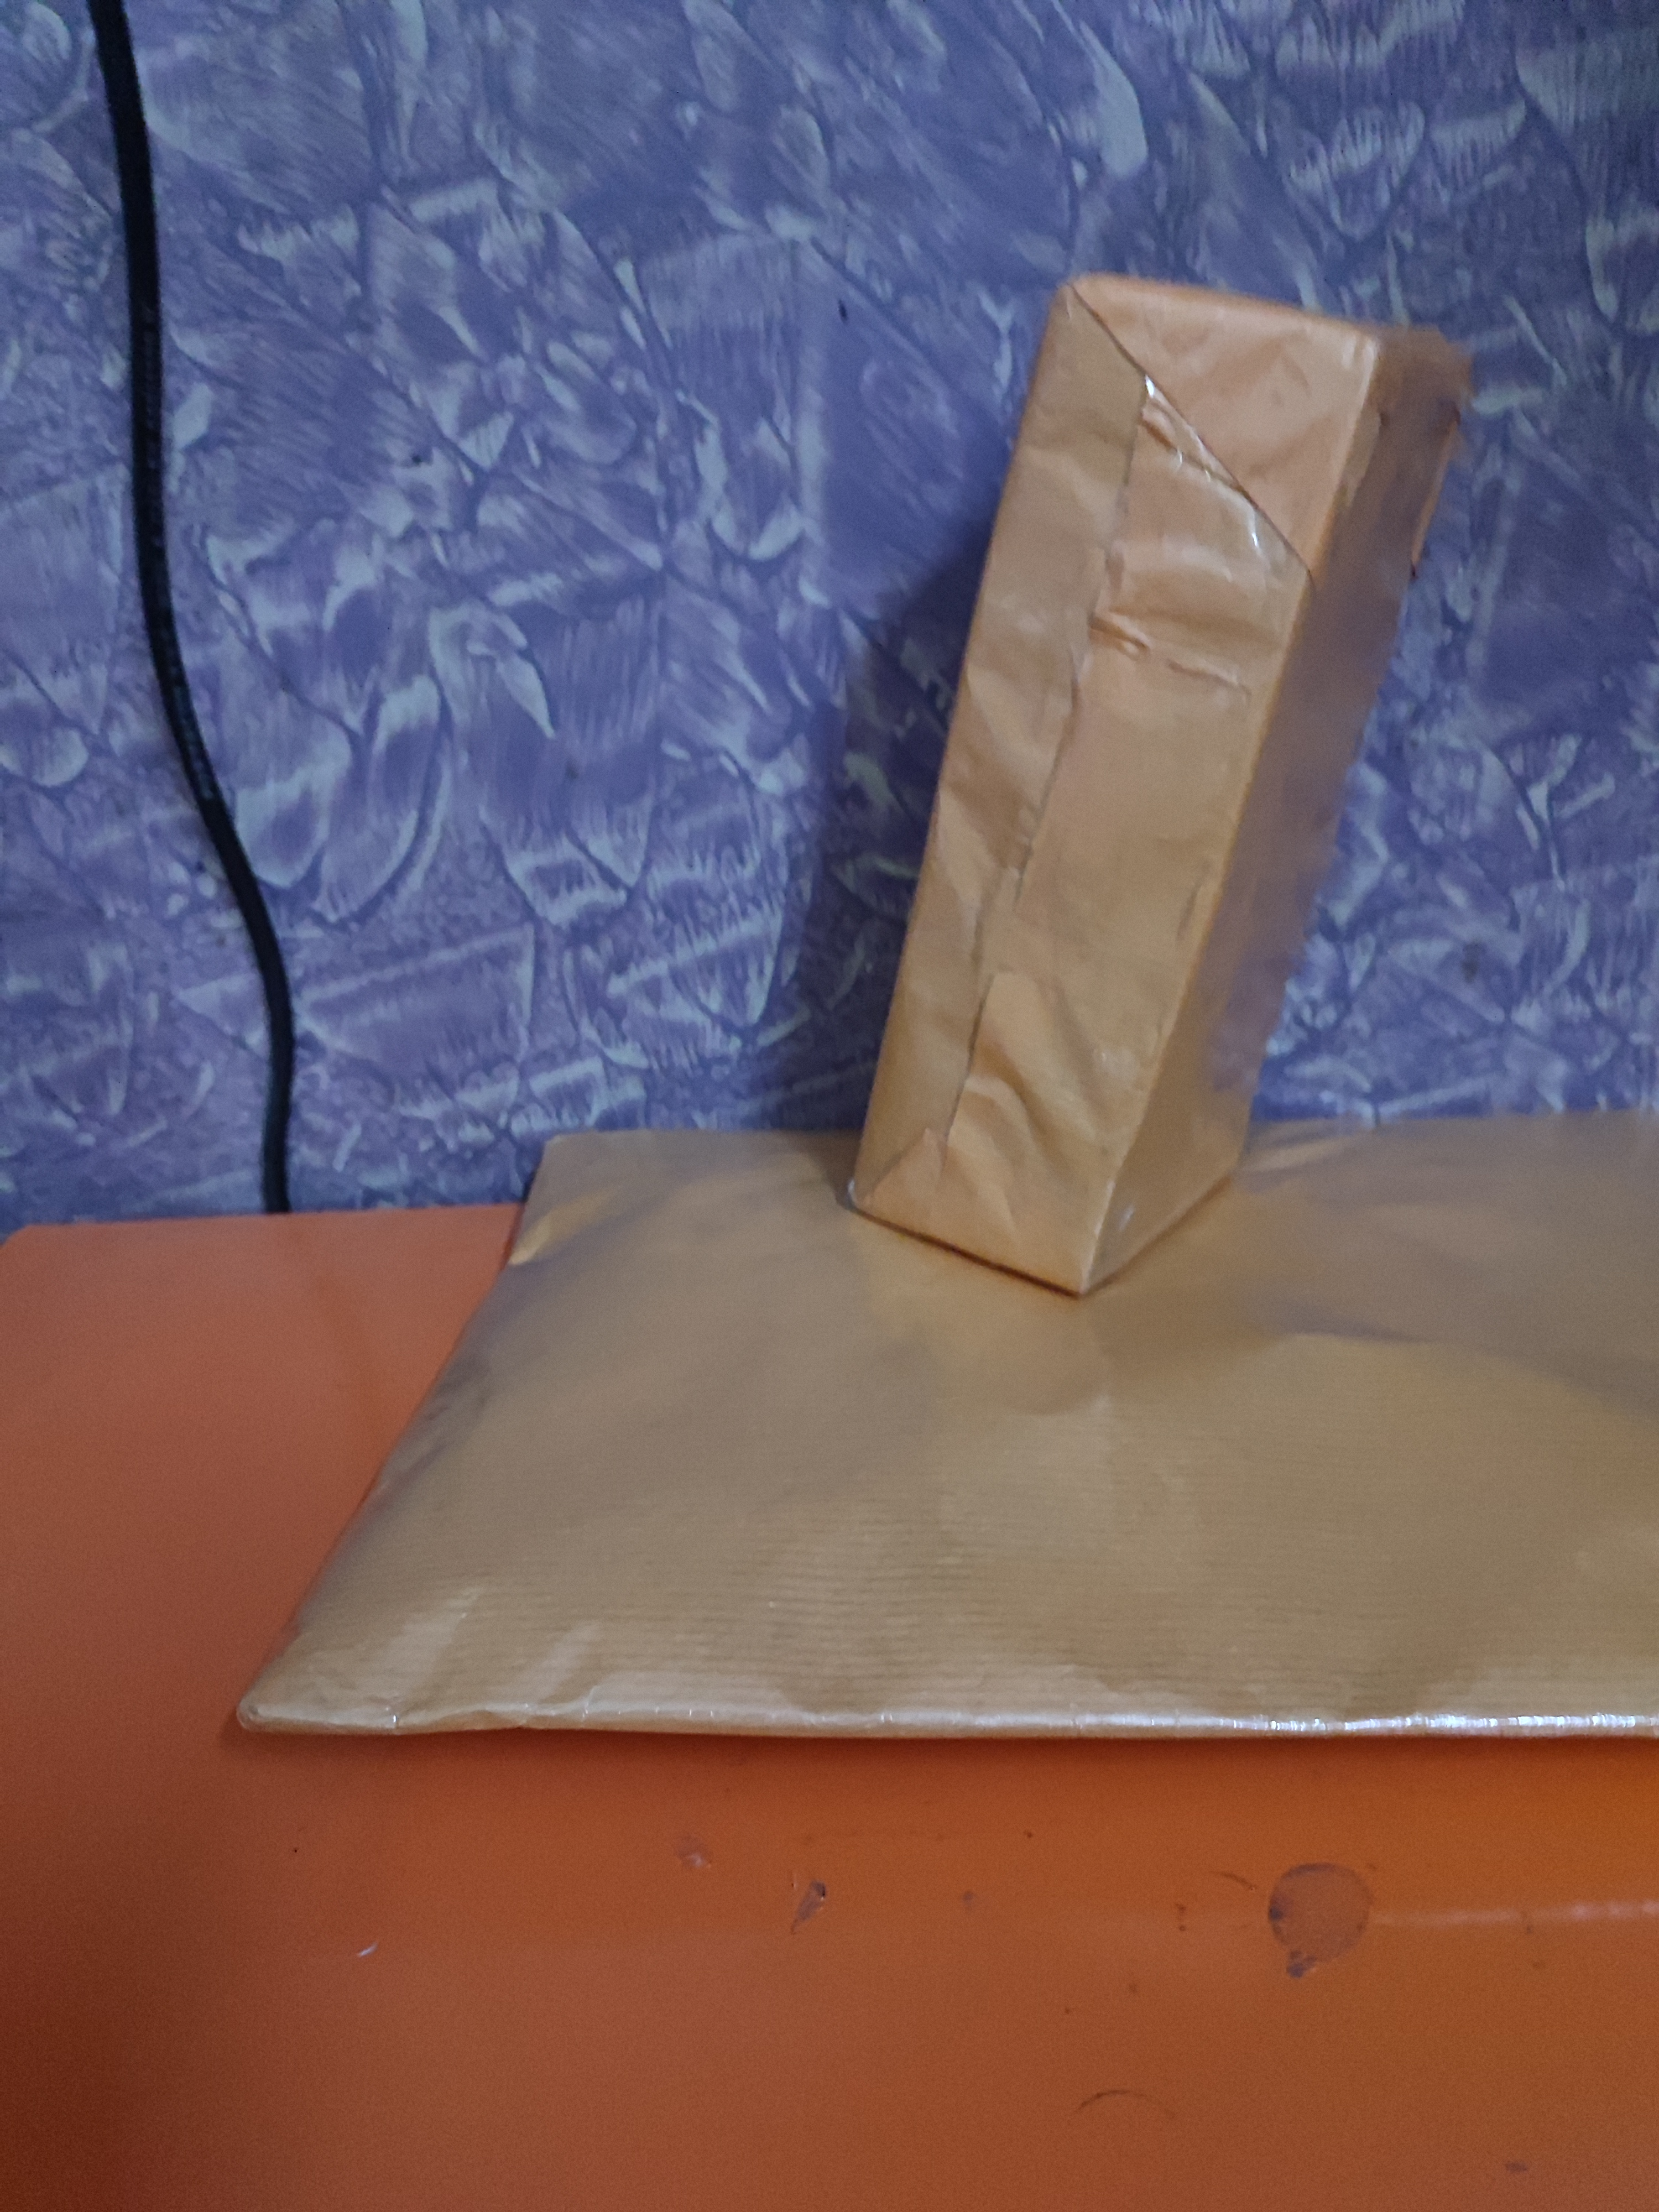Box: (228, 1057, 1659, 1749), (823, 228, 1405, 1545)
